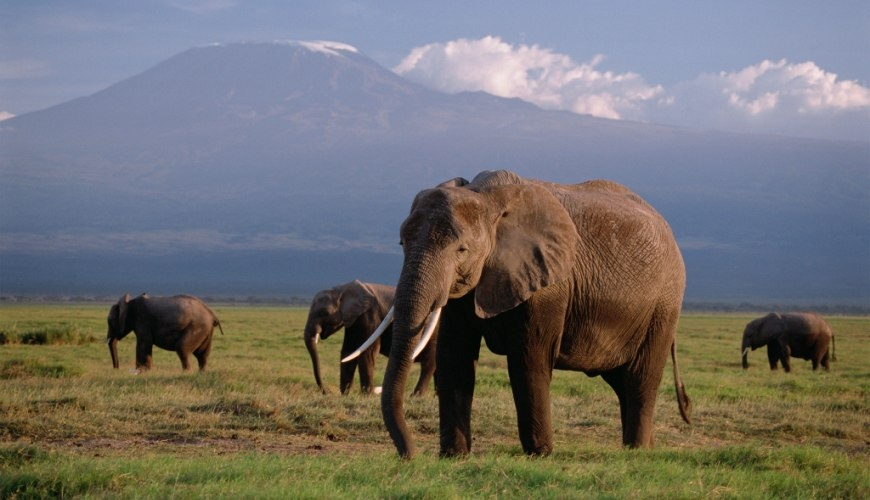elephant: (339, 164, 689, 456), (307, 285, 448, 397), (102, 285, 224, 370), (736, 307, 833, 374)
